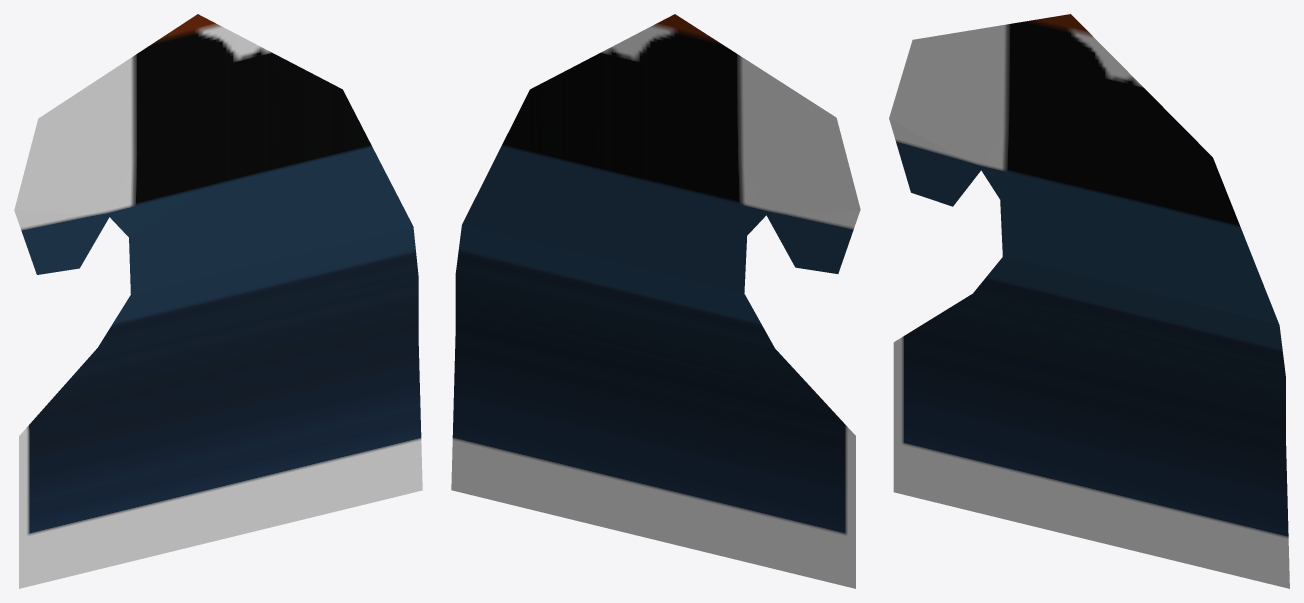
Rendered from Llama_01.fbx.
The picture shows the model from 3 angles, left to right: view 1: azimuth 30°, elevation 25°; view 2: azimuth 150°, elevation 25°; view 3: azimuth 330°, elevation 25°; orthographic projection. The views are drawn at different scales.
Visible parts, largest first — view 1: Llama_01; view 2: Llama_01; view 3: Llama_01.
Boxes of the visible parts, box(x1,y1,x2,y2) form: Llama_01: box(14, 14, 422, 588); Llama_01: box(451, 14, 860, 588); Llama_01: box(889, 14, 1289, 588).
Bounding box in the file's own units: 2.59 × 3.21 × 0.0179.
